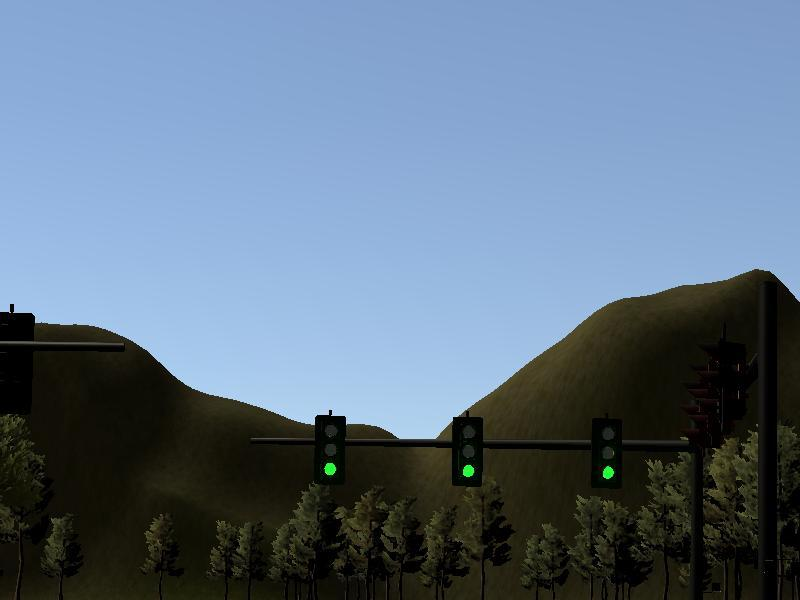Green: (593, 420, 621, 490), (453, 418, 481, 485), (318, 419, 342, 488)
